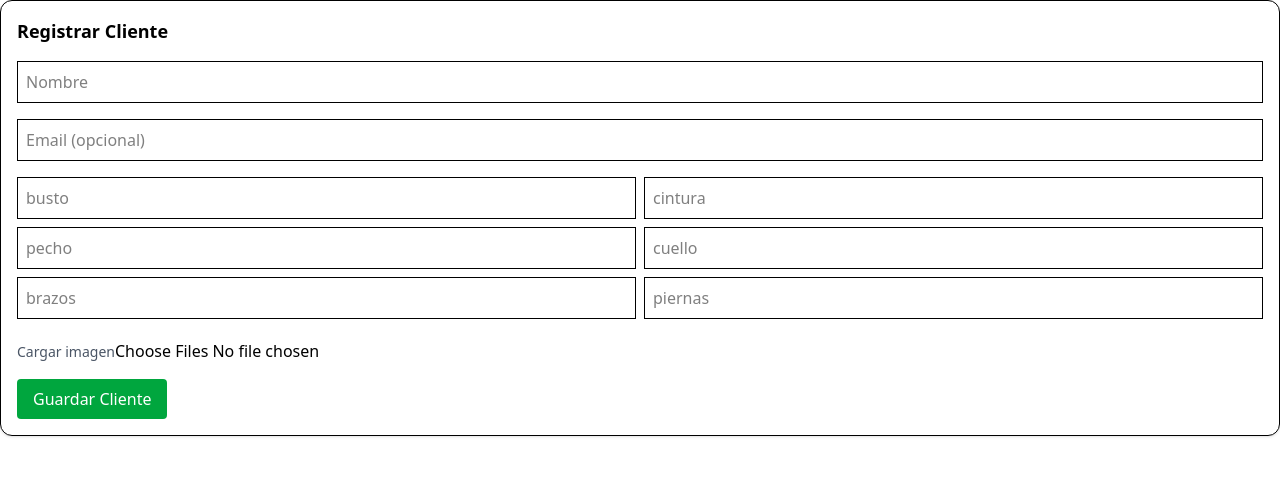
ClientForm › muestra un mensaje de error si el nombre no se ingresa
Step 1. Type "juan@example.com" into the field with placeholder "Email (opcional)" → coordinates (640, 140), box [17,119,1263,161]
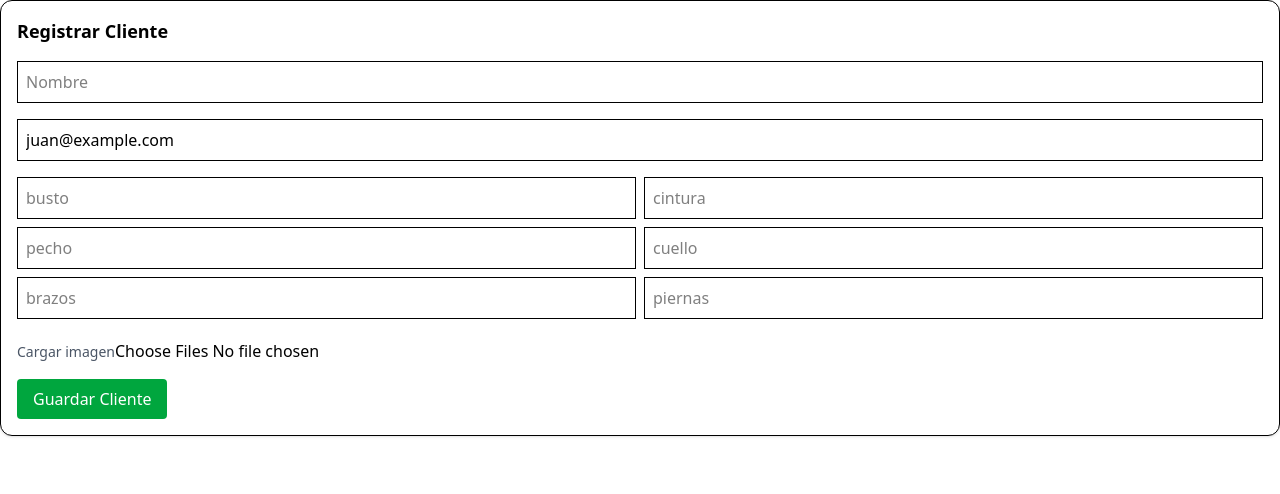
Step 2. Click the button "Guardar Cliente" → coordinates (92, 399), box [17,379,168,419]
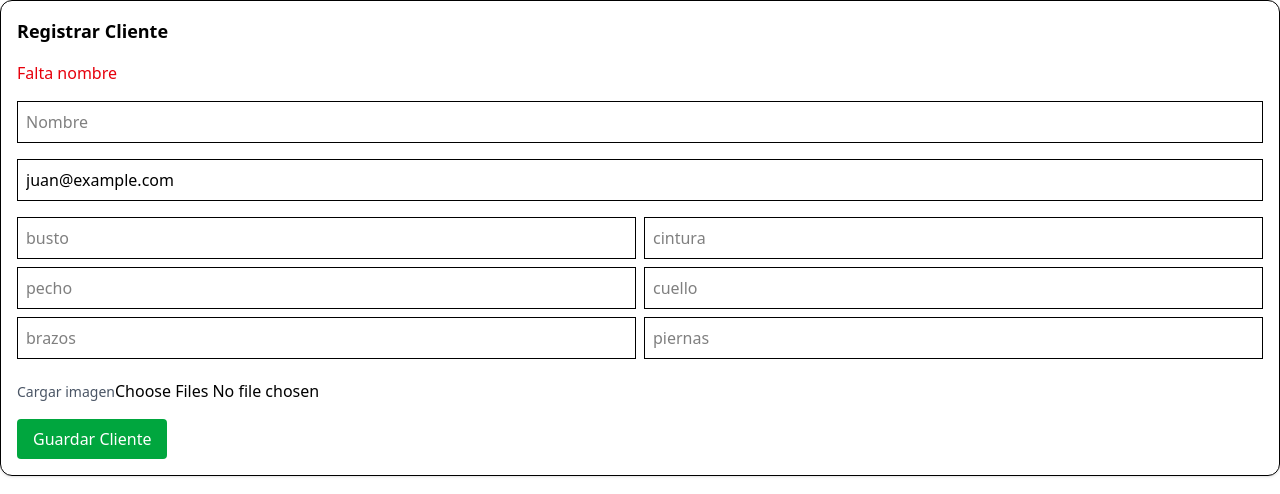
Now the text "Falta nombre" is shown, box [17,62,117,84]
